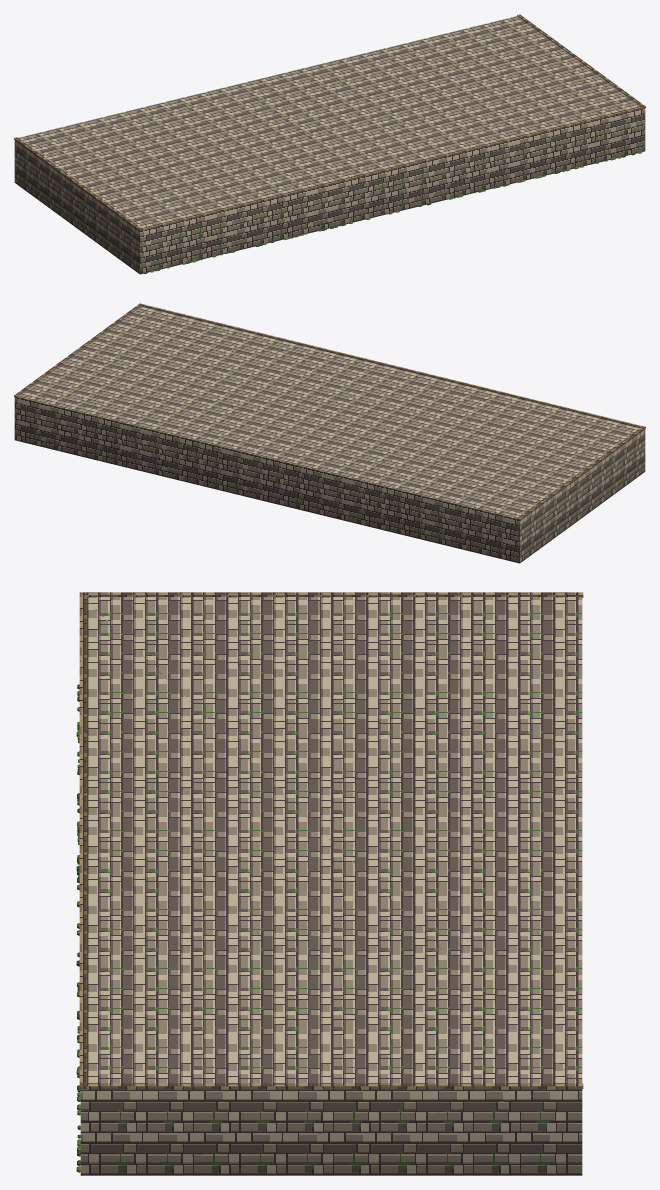
The model's file is scene_wall_n.glb.
3 renders of one model, top to bottom at view 1: azimuth 30°, elevation 25°; view 2: azimuth 150°, elevation 25°; view 3: azimuth 270°, elevation 25°, orthographic. The views are drawn at different scales.
Visible parts, largest first — view 1: scene_wall_n; view 2: scene_wall_n; view 3: scene_wall_n.
Boxes of the visible parts, x1=… form: scene_wall_n: x1=14, y1=14, x2=645, y2=274; scene_wall_n: x1=14, y1=303, x2=645, y2=563; scene_wall_n: x1=76, y1=592, x2=583, y2=1175.
Size of the model in its own units: 60.1 by 5.17 by 26.04.
Materials: 2 (1 with a texture image).
